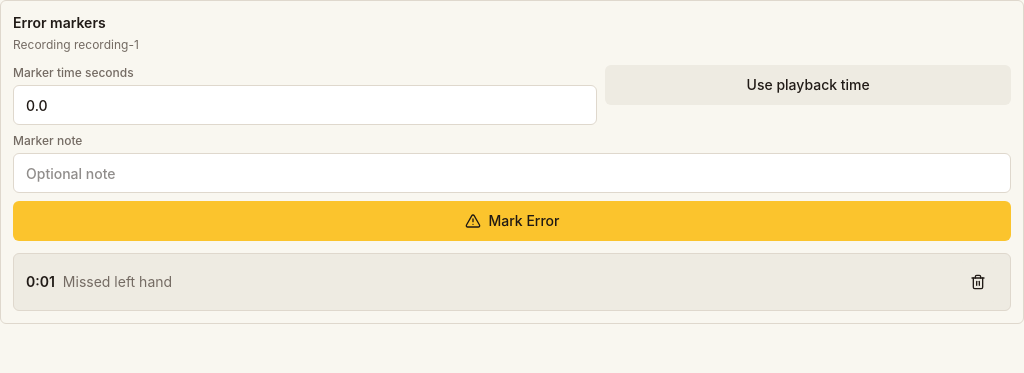
Scenario: ErrorMarkerPanel › shows success only after the playback boundary confirms the seek target
What coordinates should you click on to do the following:
click the button with aria-label "Seek to marker 0:01"
I would click on:
 (117, 282)
Its box is [26, 262, 950, 302].
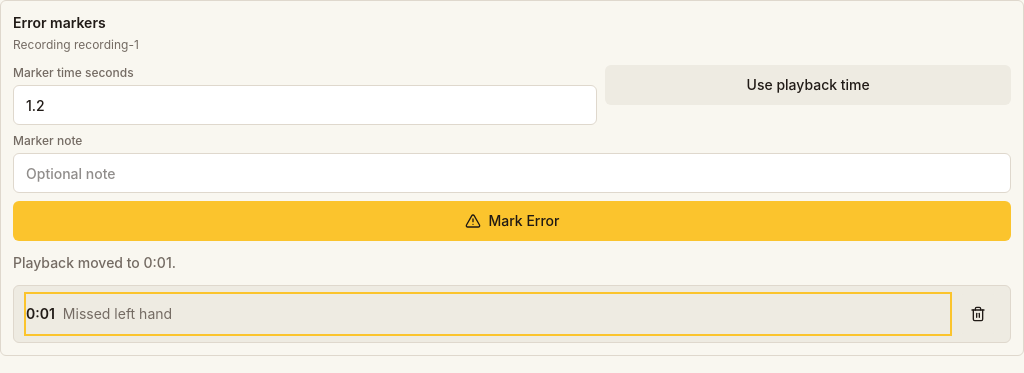
Expected: the message reads "Playback moved to 0:01.", [13, 254, 176, 271]
